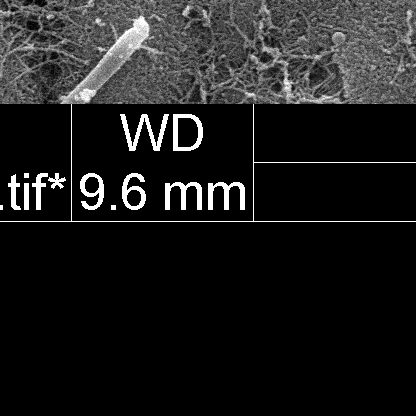regular: (65, 17, 152, 99)
